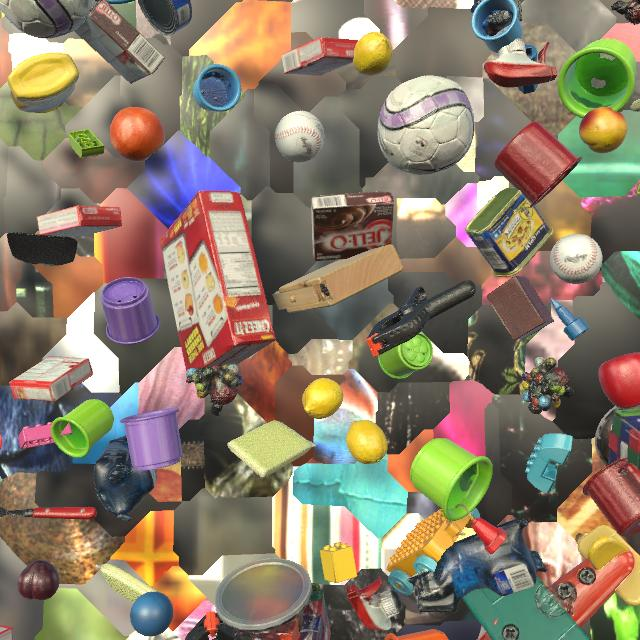ycb_003_cracker_box: (159, 190, 276, 372)
ycb_006_mustard_bottle: (7, 52, 79, 113)
ycb_007_tuna_fish_can: (138, 0, 192, 36)
ycb_008_pudding_box: (74, 0, 165, 84), (311, 191, 394, 261)
ycb_009_gelatin_box: (9, 356, 93, 402), (281, 37, 358, 76), (36, 205, 122, 236), (477, 619, 497, 640), (0, 625, 13, 640)
ycb_010_potted_meat_can: (465, 186, 554, 277)
ycb_013_apple: (598, 352, 640, 409)
ycb_014_lemon: (346, 420, 388, 464), (353, 32, 393, 76), (302, 378, 343, 419)
ycb_015_peach: (579, 107, 627, 154)
ycb_017_orange: (110, 107, 165, 162)
ycb_018_plum: (18, 560, 60, 600)
